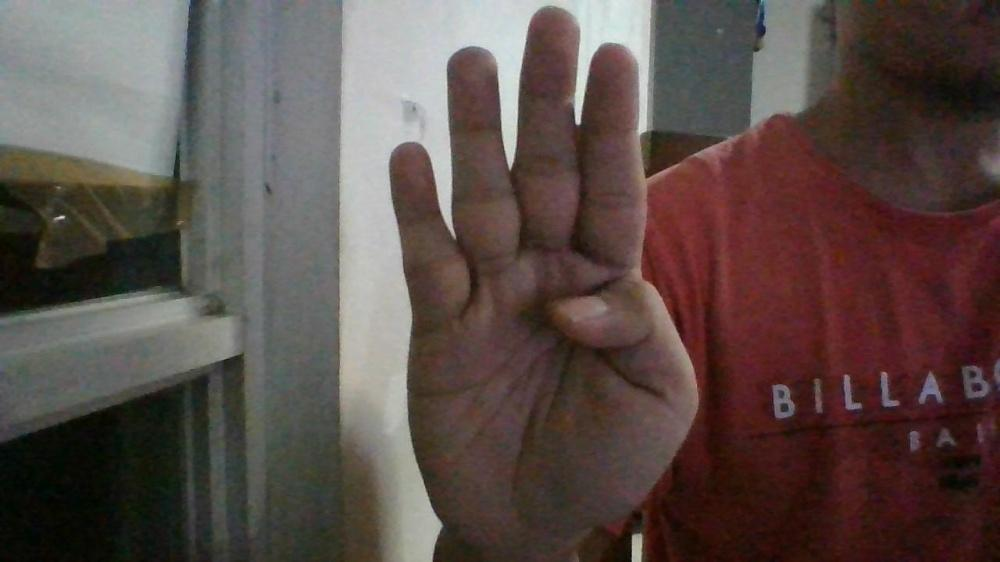b: (385, 1, 702, 537)
